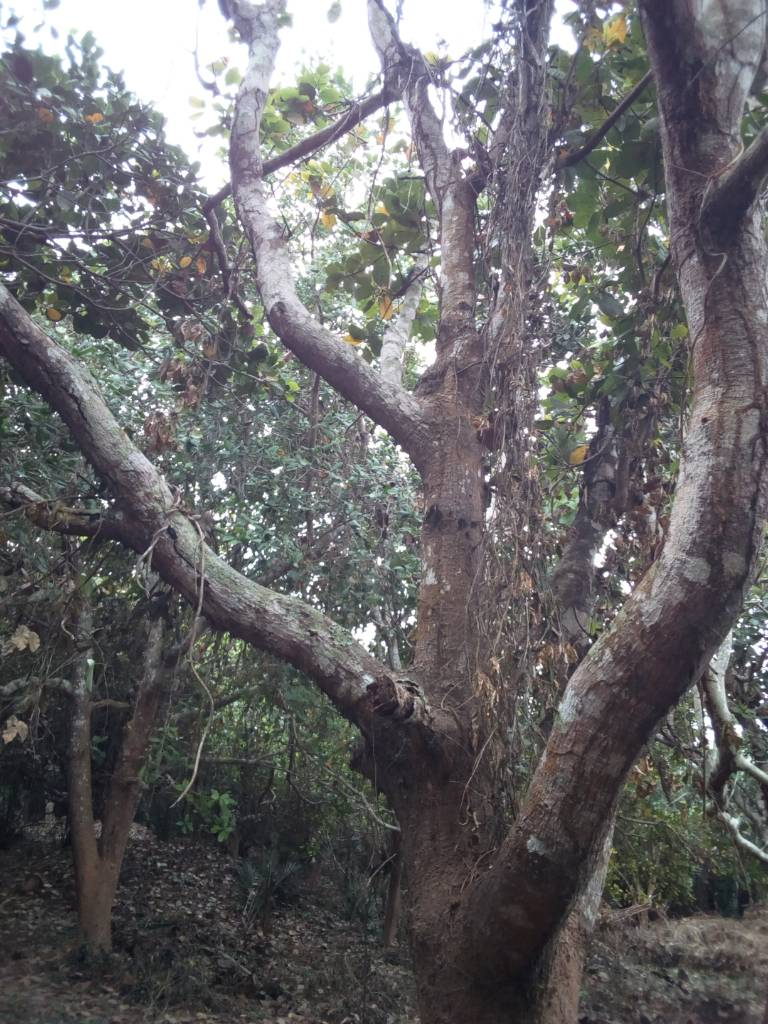Termites: (400, 732, 511, 975), (419, 403, 505, 697)
